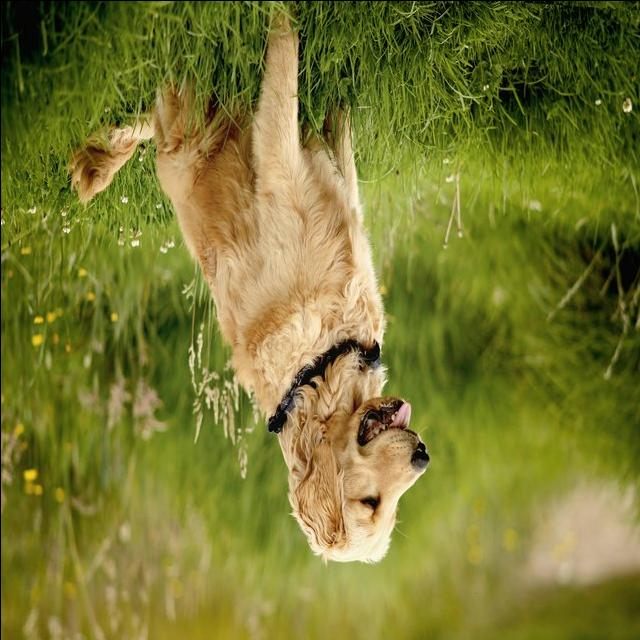retriever: (65, 4, 430, 566)
